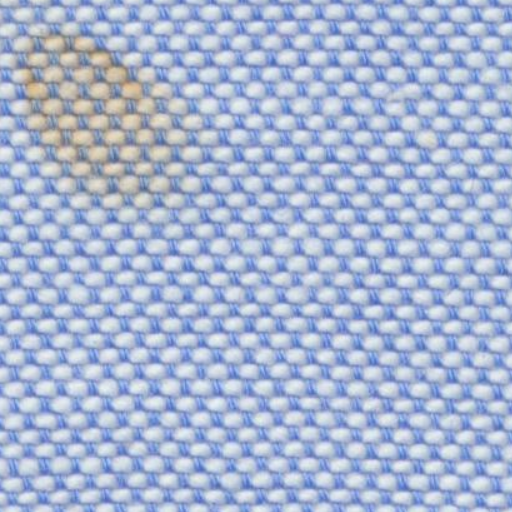WuZi: (9, 20, 196, 218)
